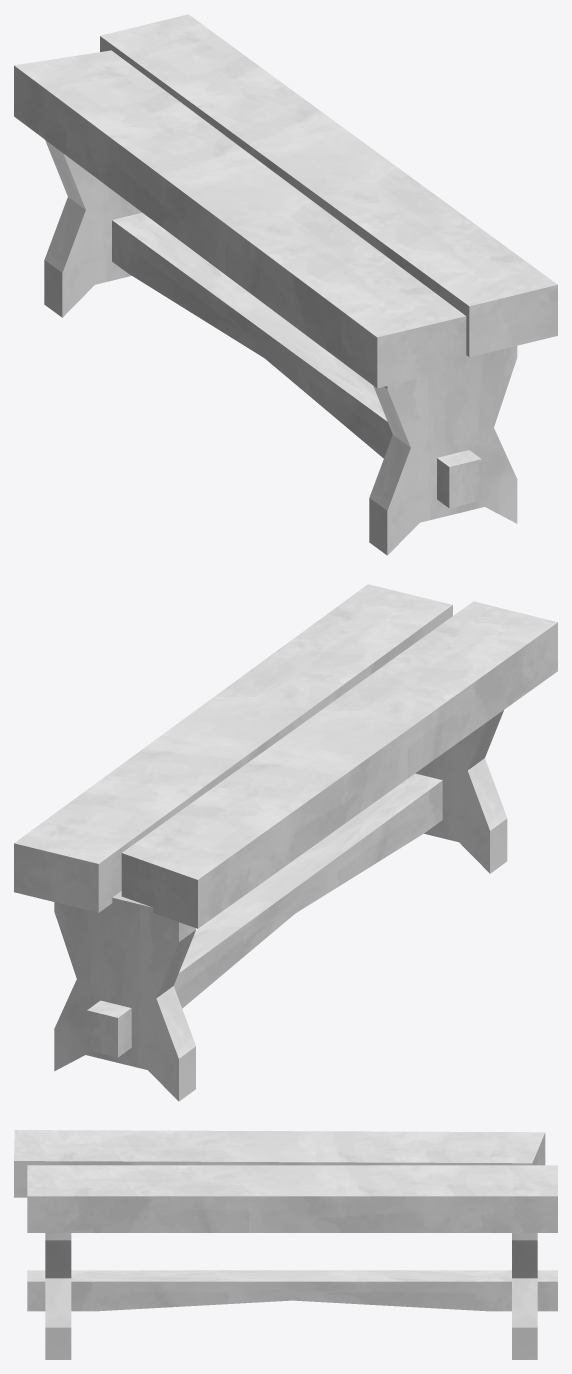
File: Bench.fbx
3 renders of one model, top to bottom at view 1: azimuth 30°, elevation 25°; view 2: azimuth 150°, elevation 25°; view 3: azimuth 270°, elevation 25°, orthographic. The views are drawn at different scales.
Parts seen in each view (by area): view 1: polySurface8; view 2: polySurface8; view 3: polySurface8.
Part boxes in pixels (box(x1,y1,x2,y2)): polySurface8: box(14, 14, 557, 555); polySurface8: box(14, 584, 557, 1101); polySurface8: box(14, 1130, 557, 1359).
Bounding box in the file's own units: 0.5237 × 0.6377 × 1.81.
